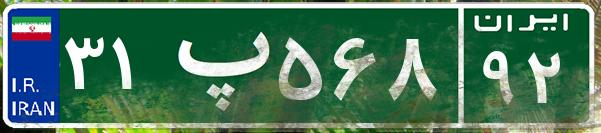1: (110, 28, 158, 105)
2: (525, 38, 570, 115)
3: (57, 26, 110, 107)
5: (273, 28, 330, 110)
6: (330, 28, 385, 110)
8: (385, 28, 445, 110)
9: (475, 38, 525, 113)
پ: (158, 15, 273, 115)
